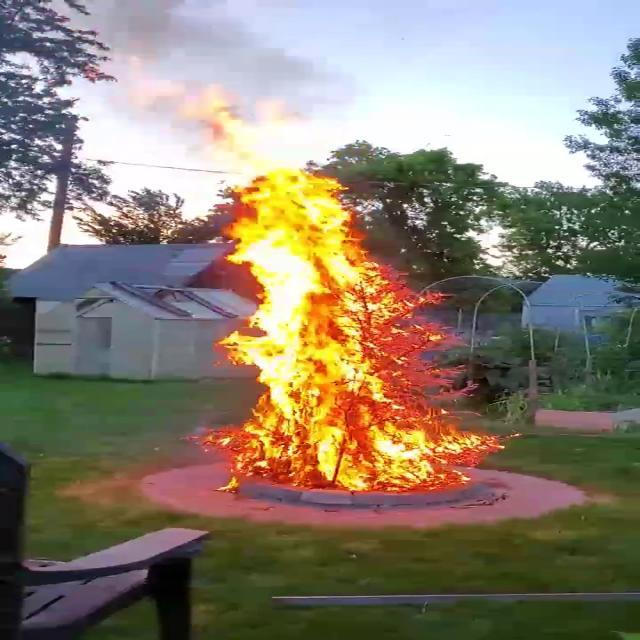Fire: (128, 77, 488, 496)
